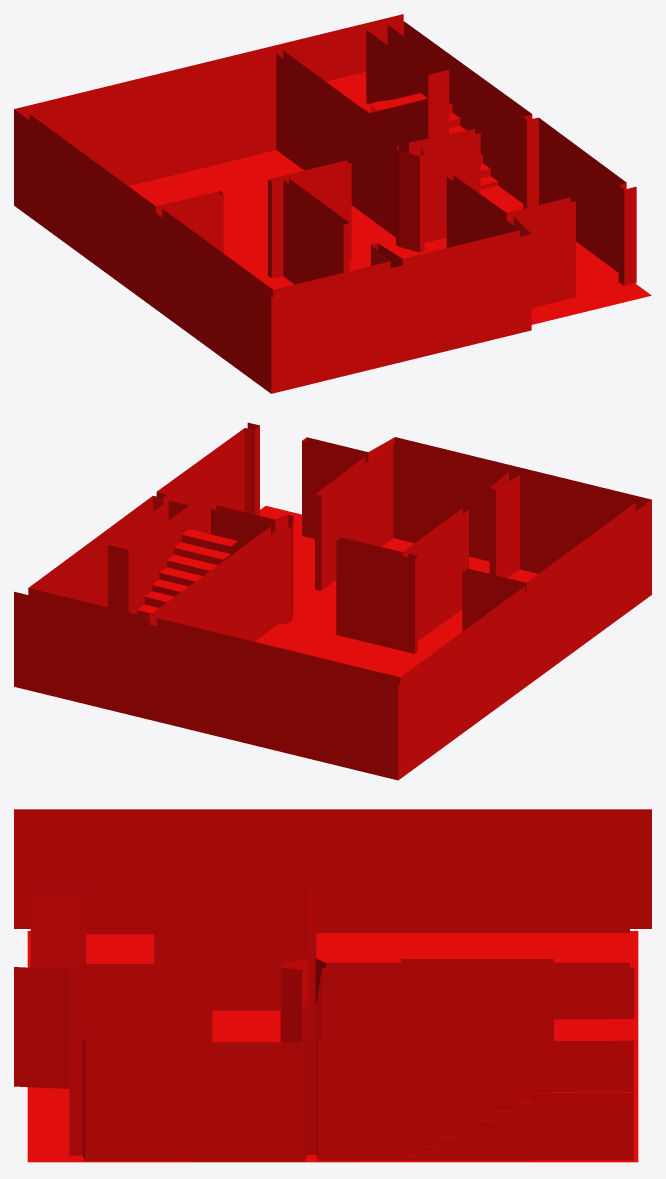
3 renders of one model, top to bottom at view 1: azimuth 30°, elevation 25°; view 2: azimuth 150°, elevation 25°; view 3: azimuth 270°, elevation 25°, orthographic. The views are drawn at different scales.
Parts seen in each view (by area): view 1: Collision-mesh.002; view 2: Collision-mesh.002; view 3: Collision-mesh.002.
Part boxes in pixels (<box>): Collision-mesh.002: <box>14,14,651,393</box>; Collision-mesh.002: <box>14,422,651,780</box>; Collision-mesh.002: <box>14,809,651,1162</box>.
Bounding box in the file's own units: 10.05 × 3.31 × 11.49.
